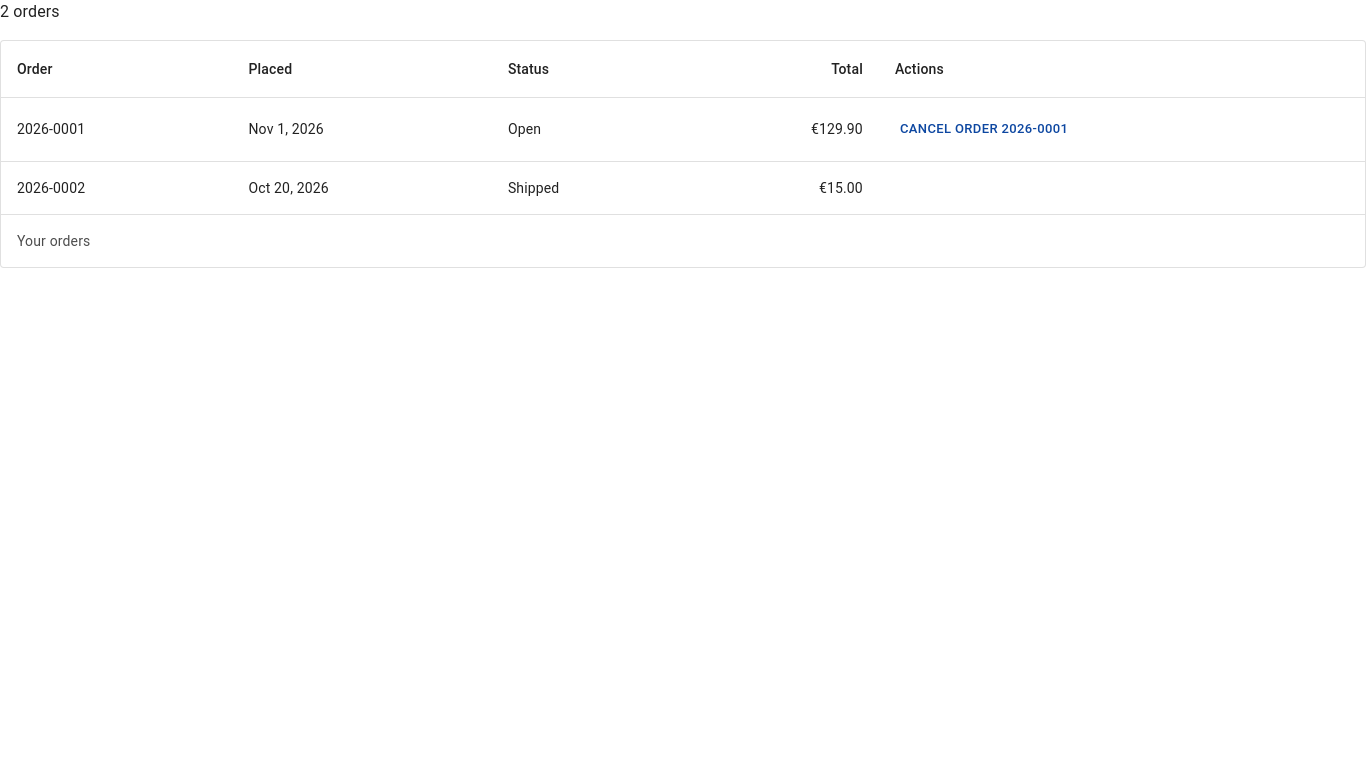
Test case: OrdersPanel › shows the generic message for a technical error and leaves reporting to where it was created
Click the button "Cancel order 2026-0001" at [984, 129], box [895, 114, 1073, 145]
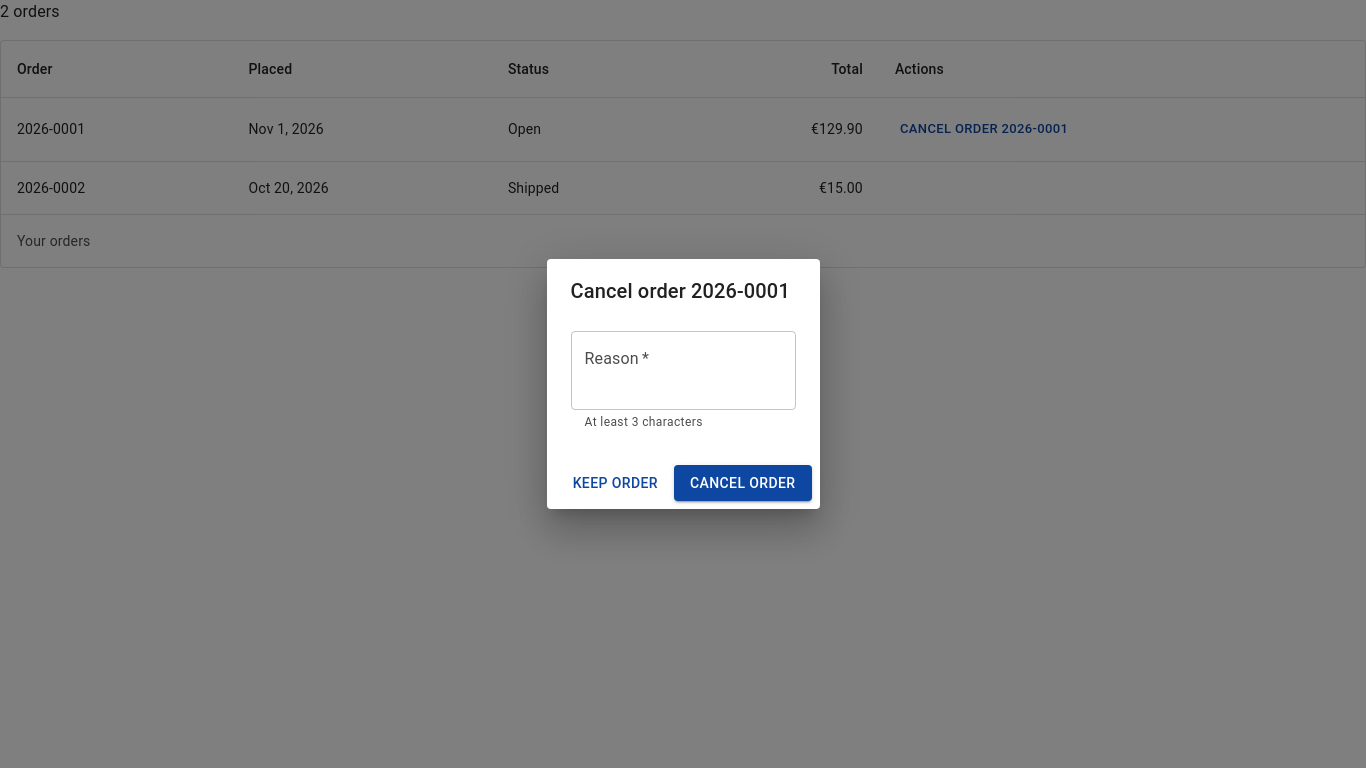
Type "changed my mind" into the text box labelled "Reason" at [683, 370], box [584, 347, 782, 393]
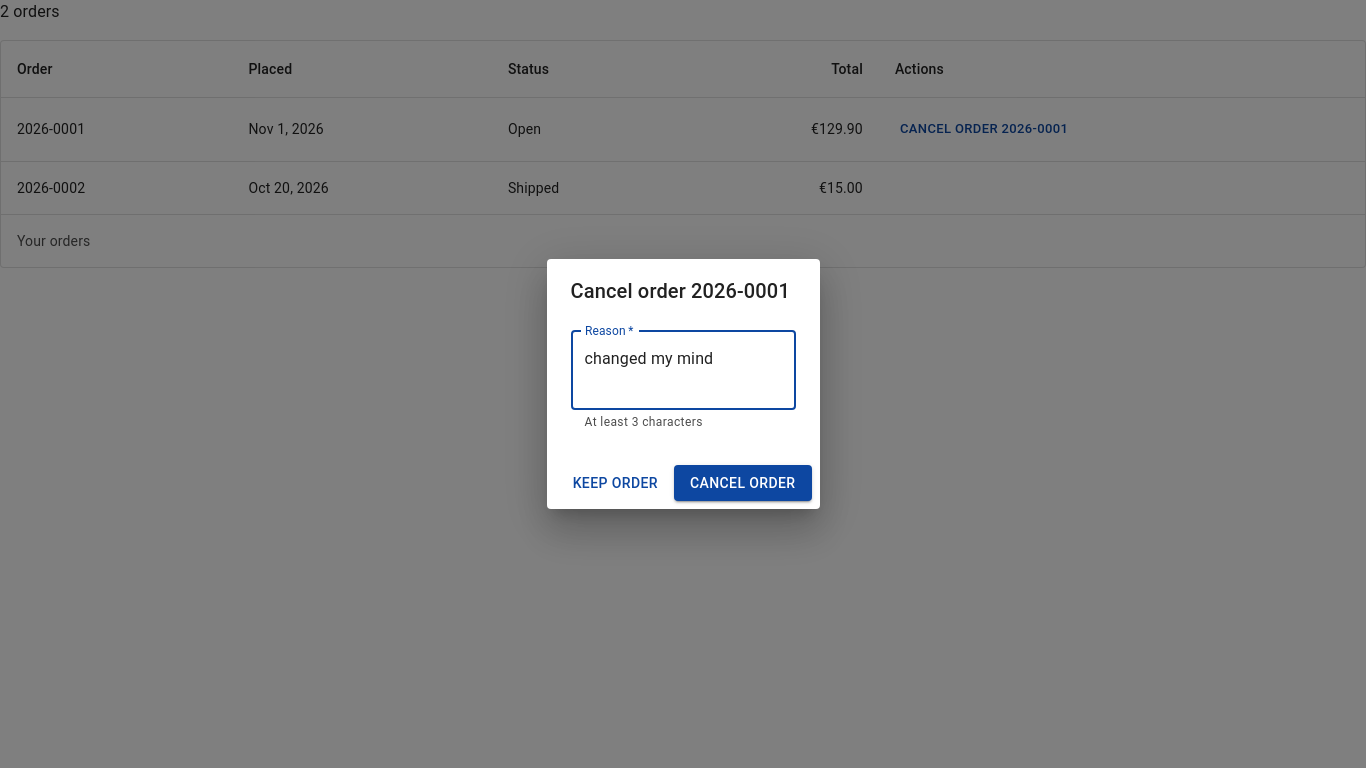
Click the button "Cancel order" at [743, 483], box [674, 465, 812, 501]
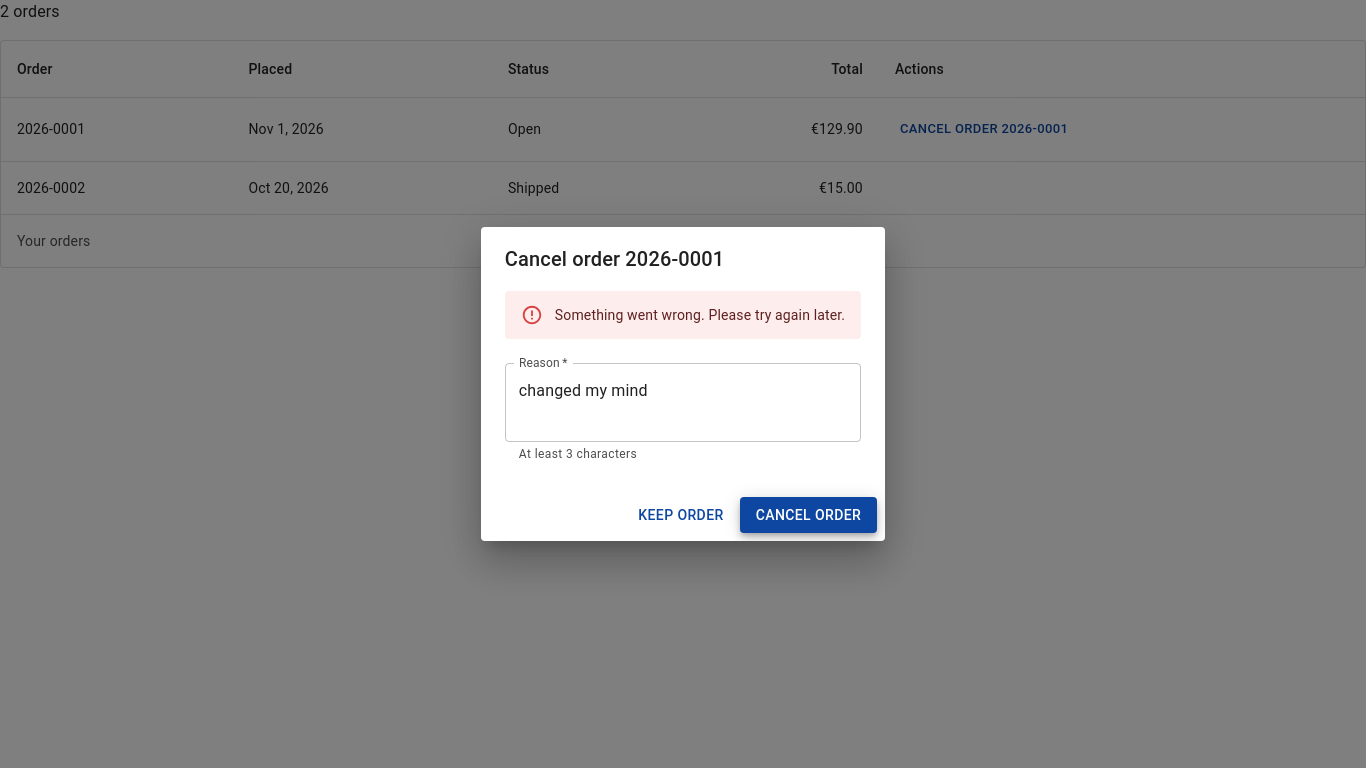
Check: the message "Something went wrong. Please try again later." is shown, box [505, 291, 861, 339]
